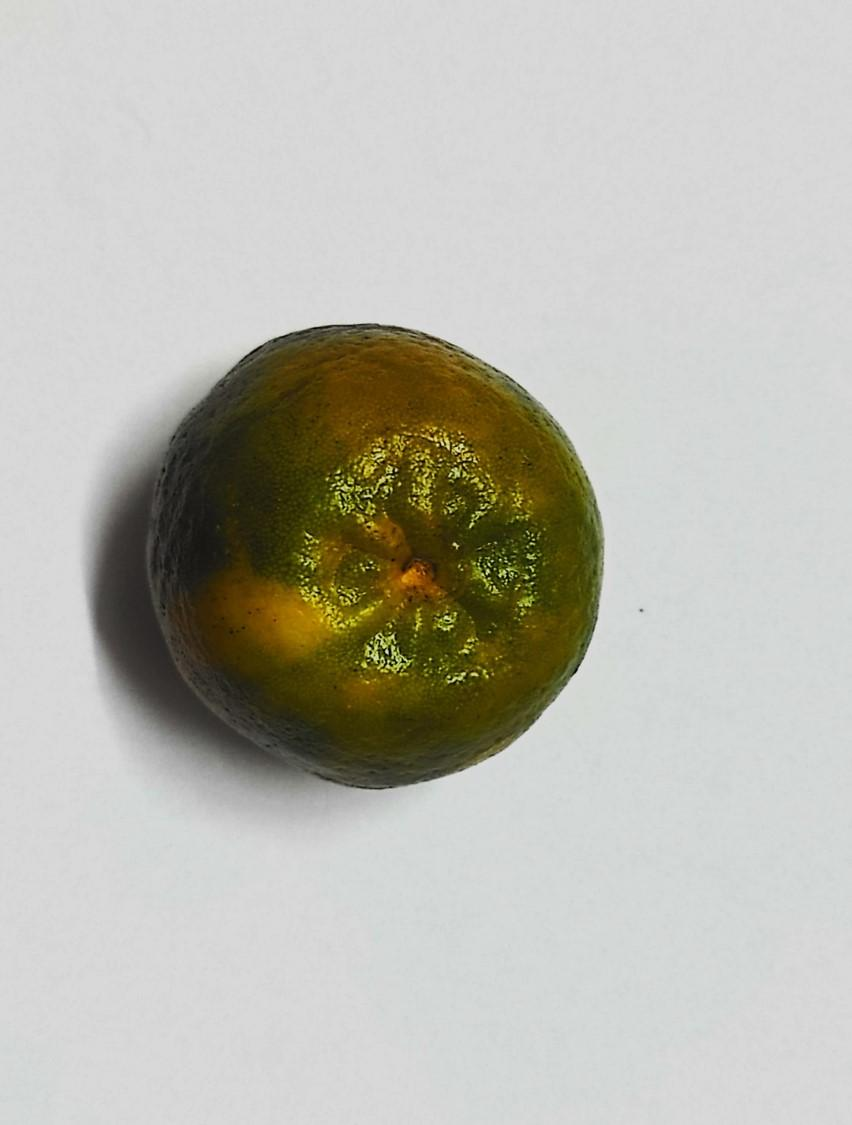Unripe: (147, 333, 617, 783)
